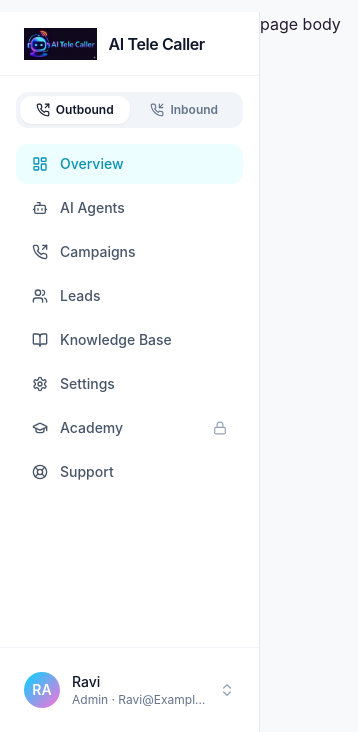
DashboardLayout call-mode switch › swaps the whole nav when switched to inbound
Click the tab "inbound".
click(184, 110)  # box [130, 96, 239, 124]
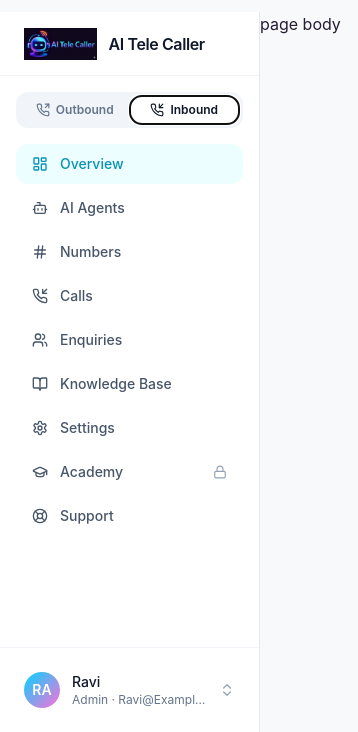
Expected: the link "Numbers" is shown, [32, 243, 121, 260]
Expected: the link "Calls" is shown, [32, 287, 93, 304]
Expected: the link "Enquiries" is shown, [32, 331, 122, 348]
